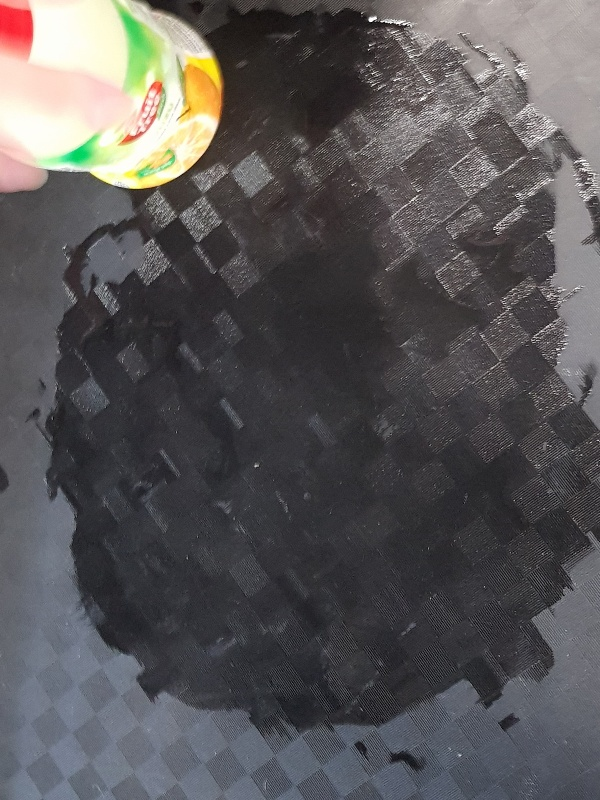Fruit Tree Yuzu Mixed Juice Drink: (1, 2, 223, 188)
